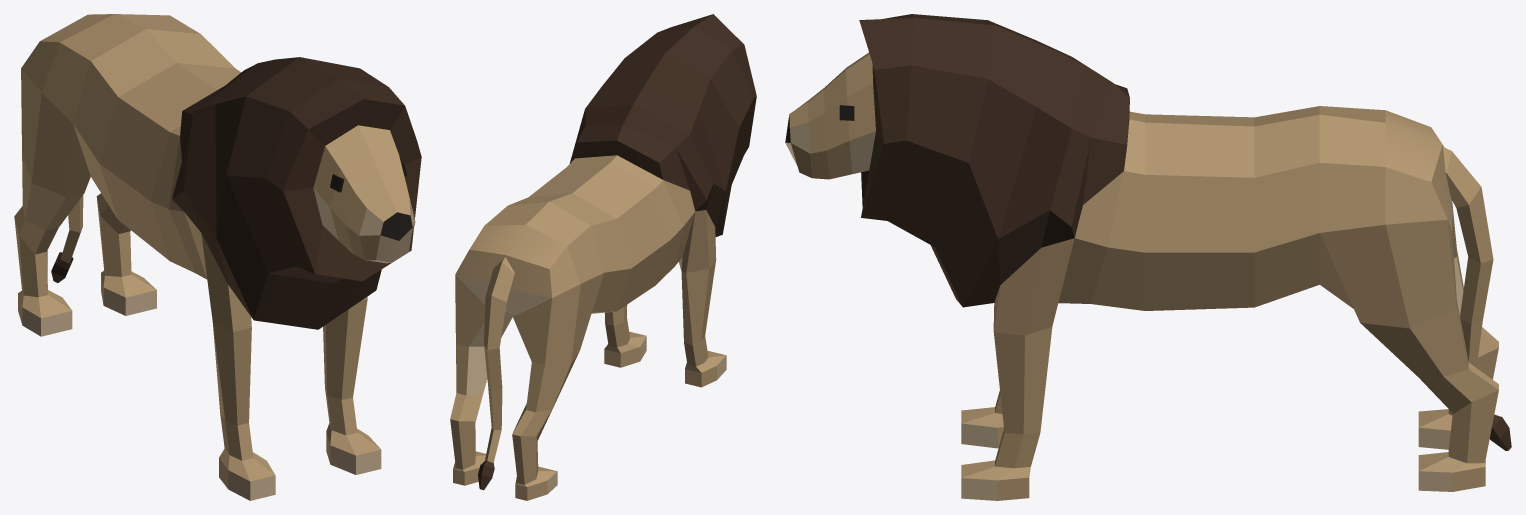
File: 06179493-230c-43e4-b67a-420e7871fbbf.glb
3 views of the same model, side by side, from view 1: azimuth 30°, elevation 25°; view 2: azimuth 150°, elevation 25°; view 3: azimuth 270°, elevation 25° (orthographic). The views are drawn at different scales.
Visible parts, largest first — view 1: Geo_Lion; view 2: Geo_Lion; view 3: Geo_Lion.
Boxes of the visible parts, x1,y1,x2,y2 form: Geo_Lion: (14, 14, 421, 500); Geo_Lion: (450, 14, 756, 500); Geo_Lion: (785, 14, 1511, 500).
Size of the model in its own units: 64.73 by 143 by 211.
Materials: 1 (1 with a texture image).
